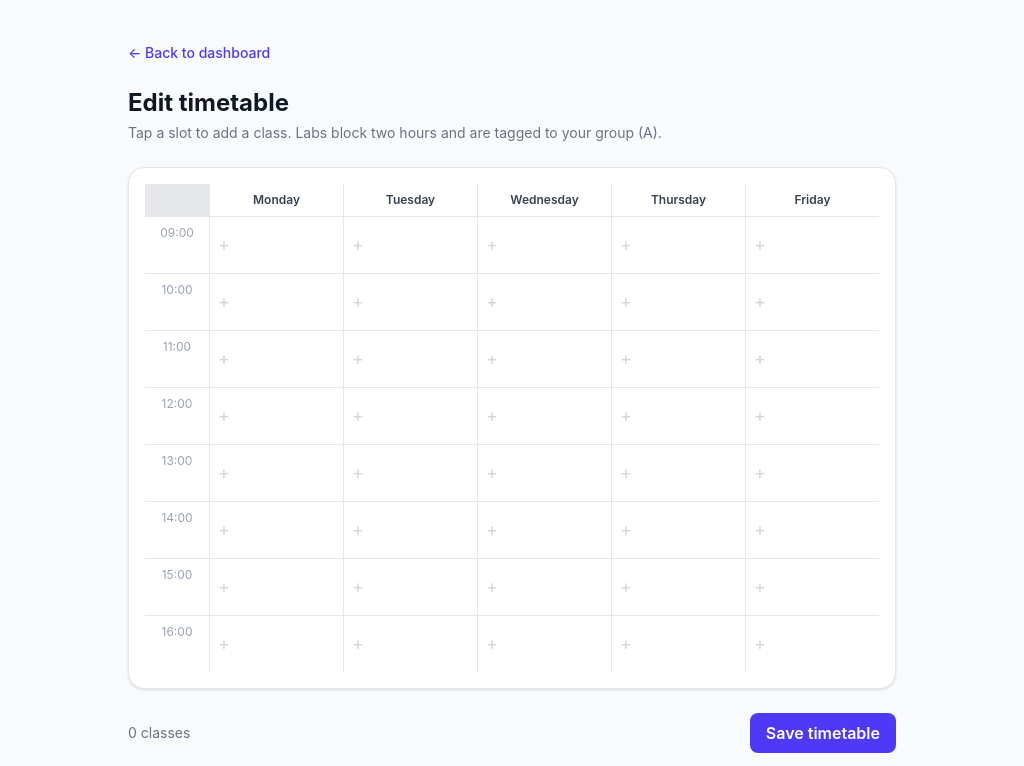
Test: EditTimetableScreen › saves a lab as two consecutive hours tagged with the own group
Click the button named "Add Tuesday 09:00".
click(410, 245)  # box [344,217,477,273]
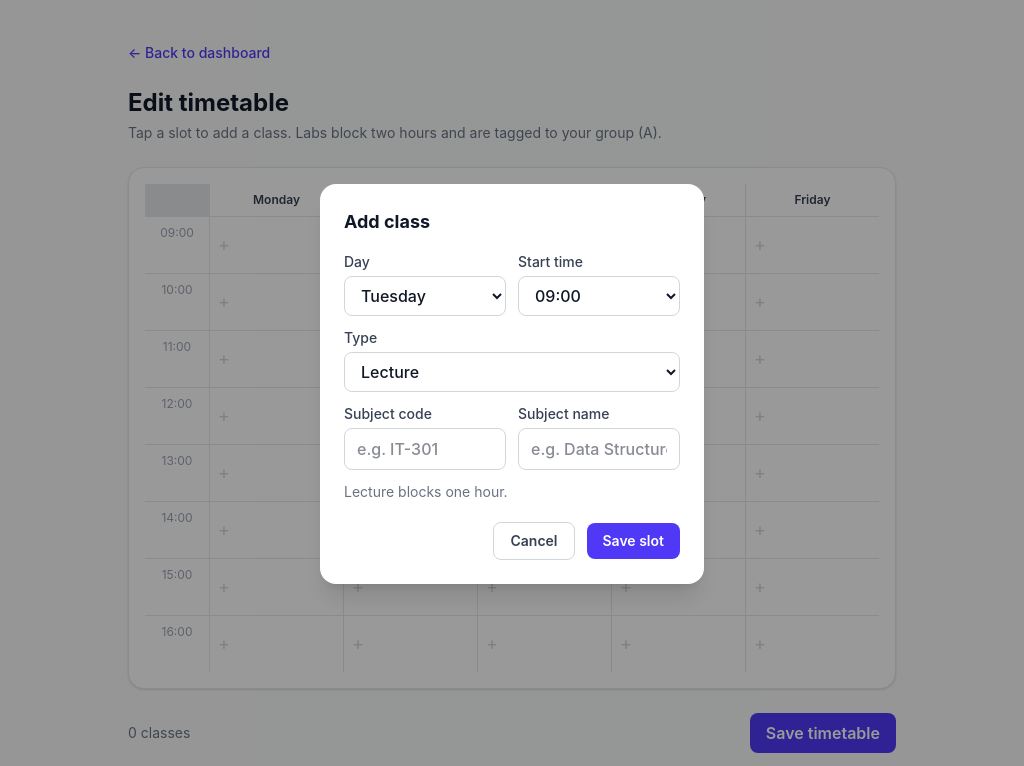
Select "Lab" in the dropdown labelled "Type" at {"x": 512, "y": 372}, box [344,352,680,392]
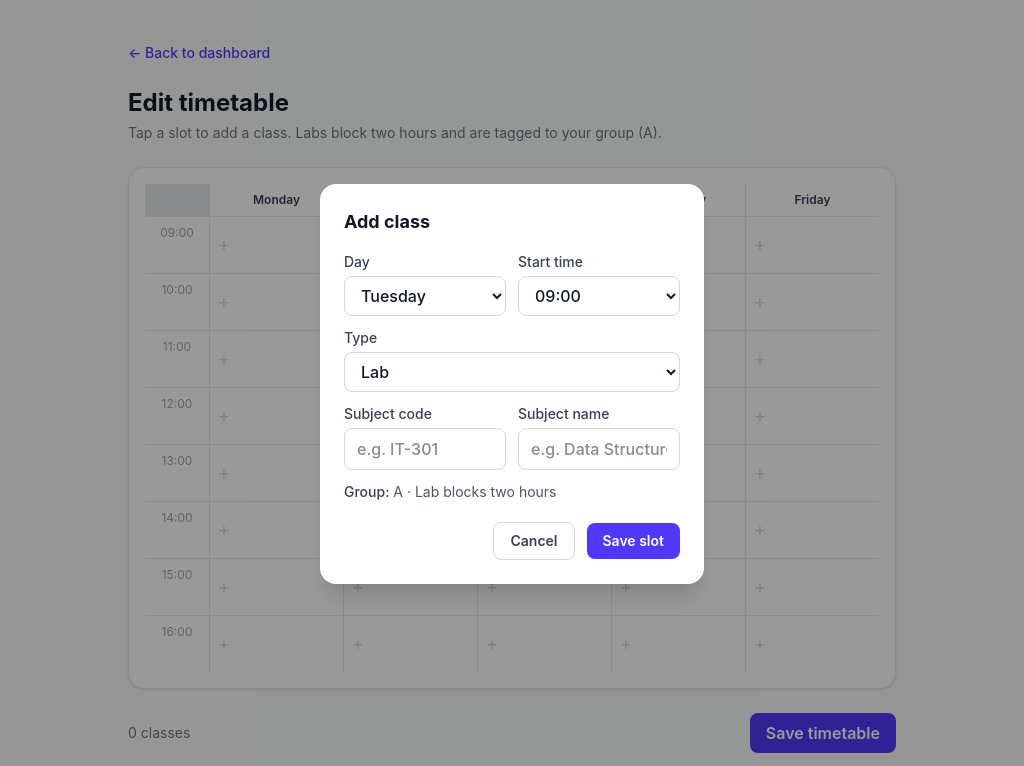
Type "IT-355" into the field labelled "Subject code".
click(425, 449); type("IT-355")  # box [344,428,506,470]
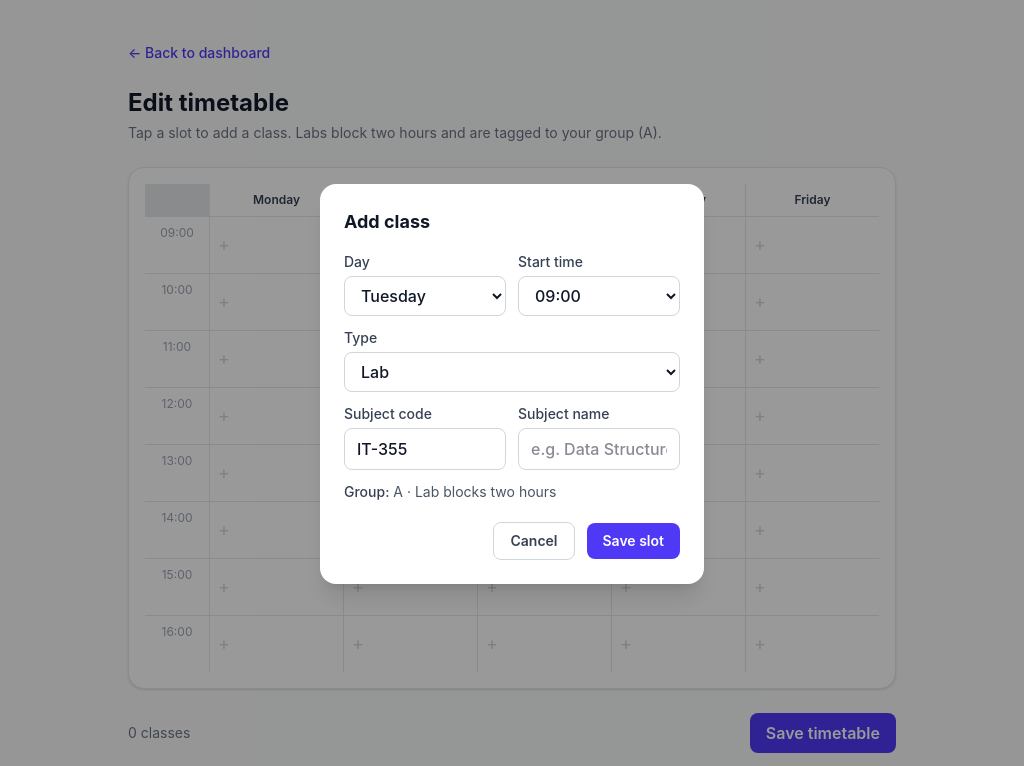
Type "DBMS Lab" into the field labelled "Subject name".
click(599, 449); type("DBMS Lab")  # box [518,428,680,470]
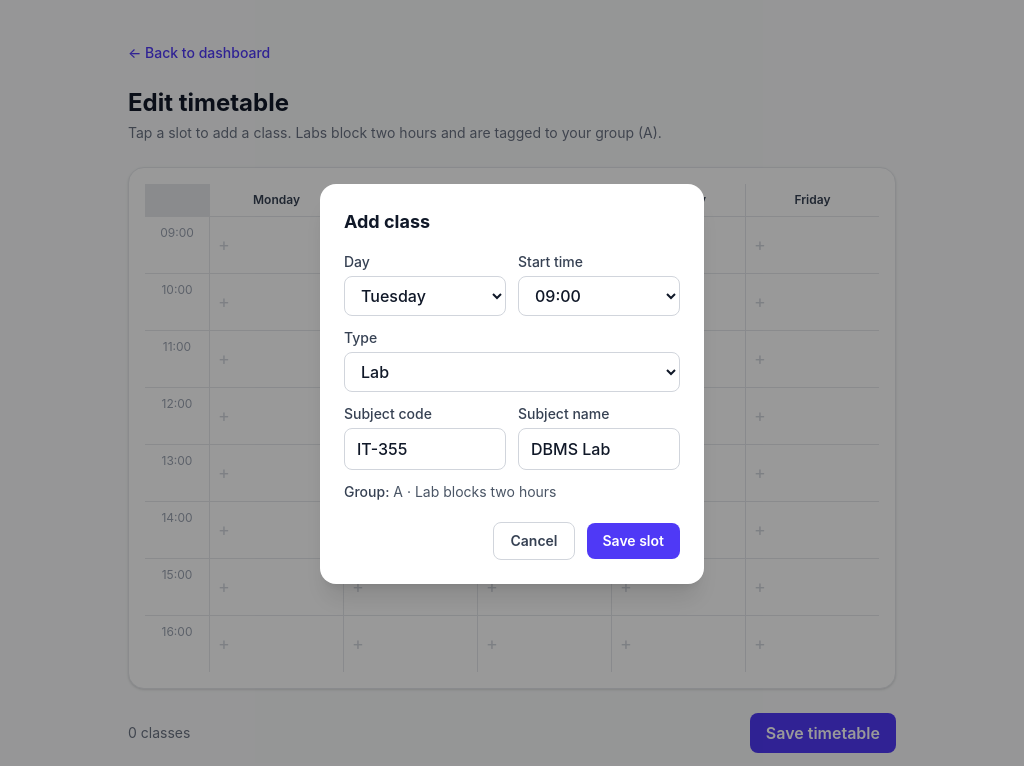
Click the button "Save slot".
click(633, 541)  # box [586,523,680,559]
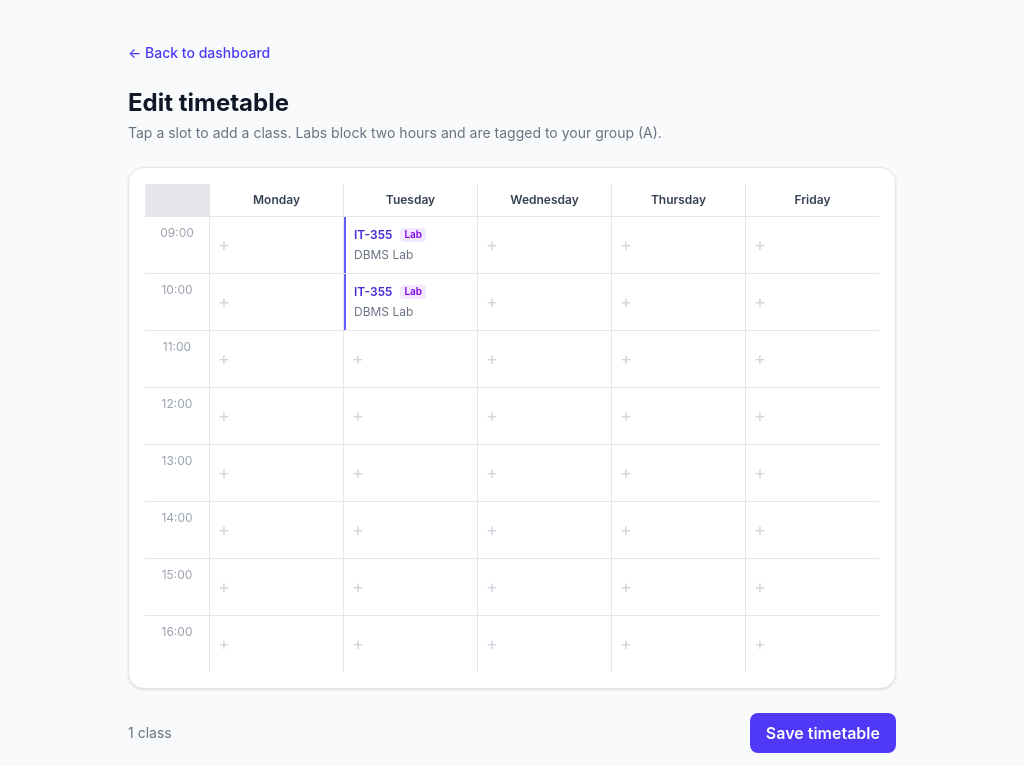
Check: the 1st text "IT-355" is shown, box [354,227,392,243]
Check: the 2nd text "IT-355" is shown, box [354,284,392,300]
Check: the text "Lab" is shown 2 times, box [400,228,426,242]; [400,285,426,299]
Click the button "Save timetable".
click(823, 733)  # box [750,713,896,753]
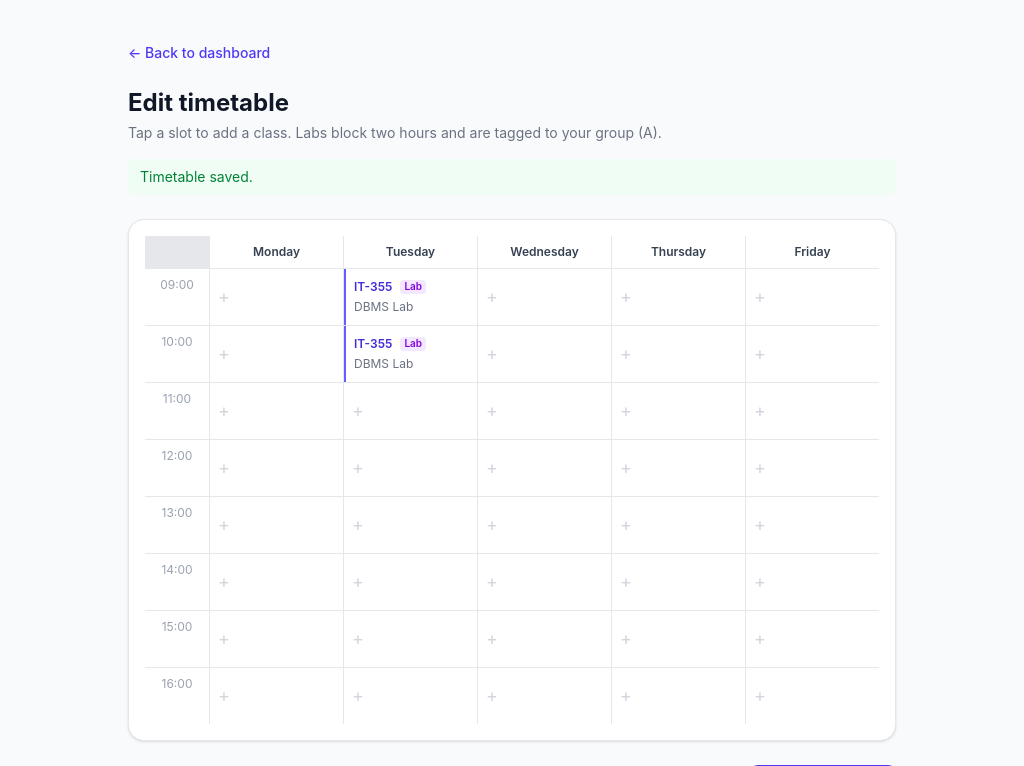
Check: the text "Timetable saved." is shown, box [128,159,896,195]
